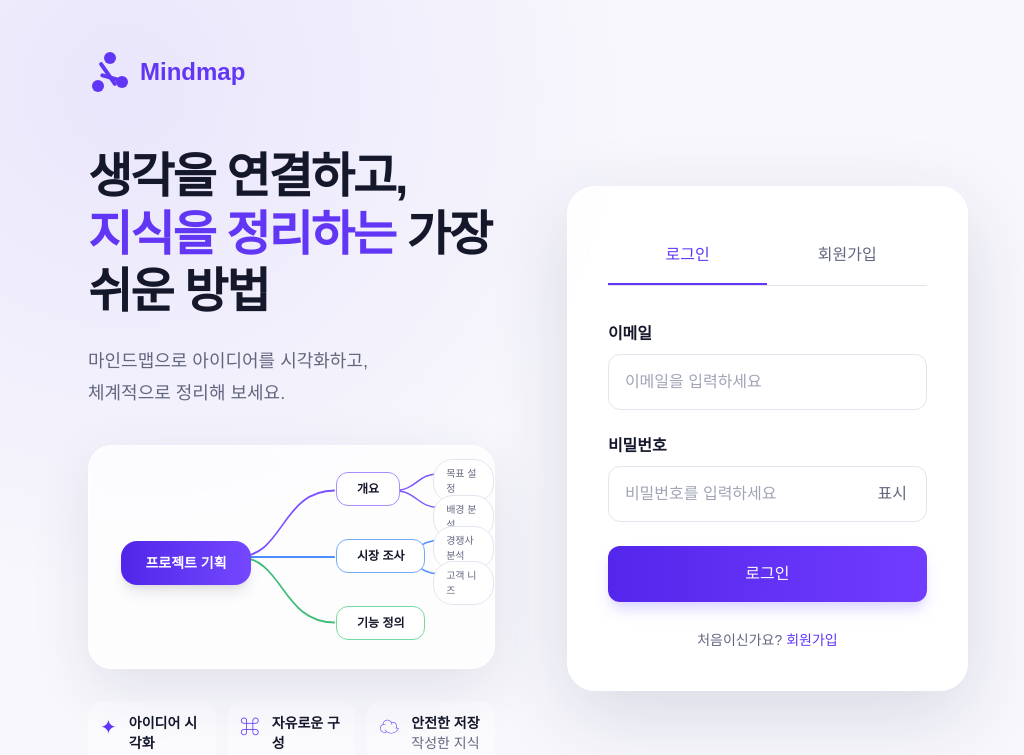
AuthScreen › shows a generic server error without clearing credentials
In the field labelled "이메일": (767, 382) 608,354 -> 927,410, type "user@example.test"
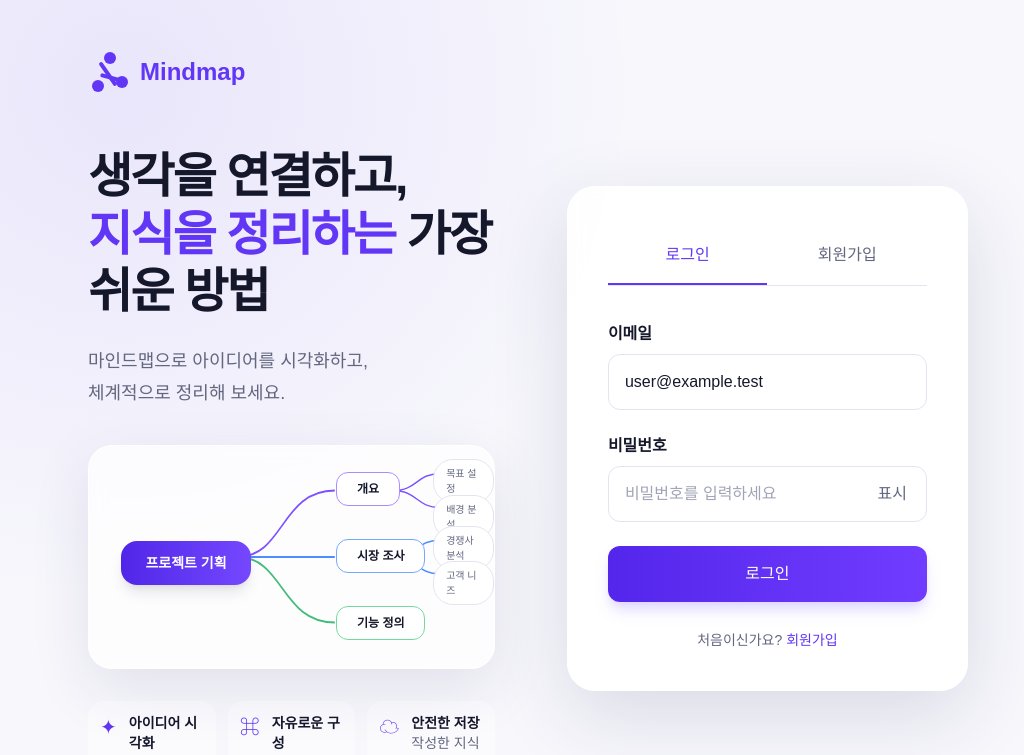
In the password field labelled "비밀번호": (767, 494) 608,466 -> 927,522, type "wrong"
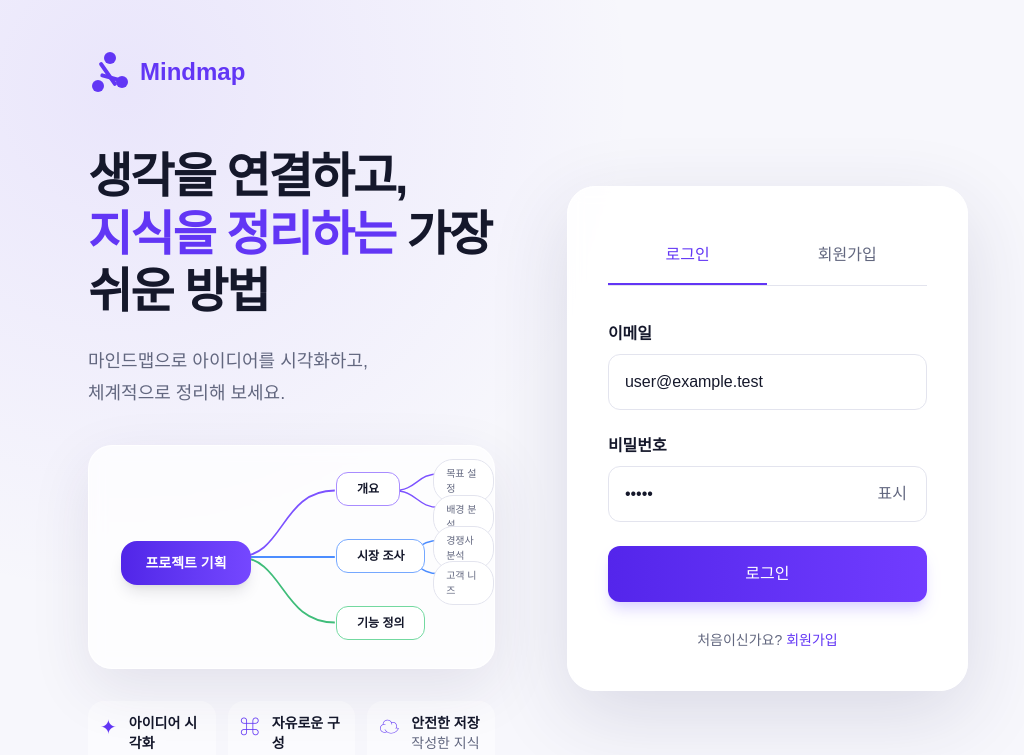
Click the button "로그인": (767, 574) 608,546 -> 927,602
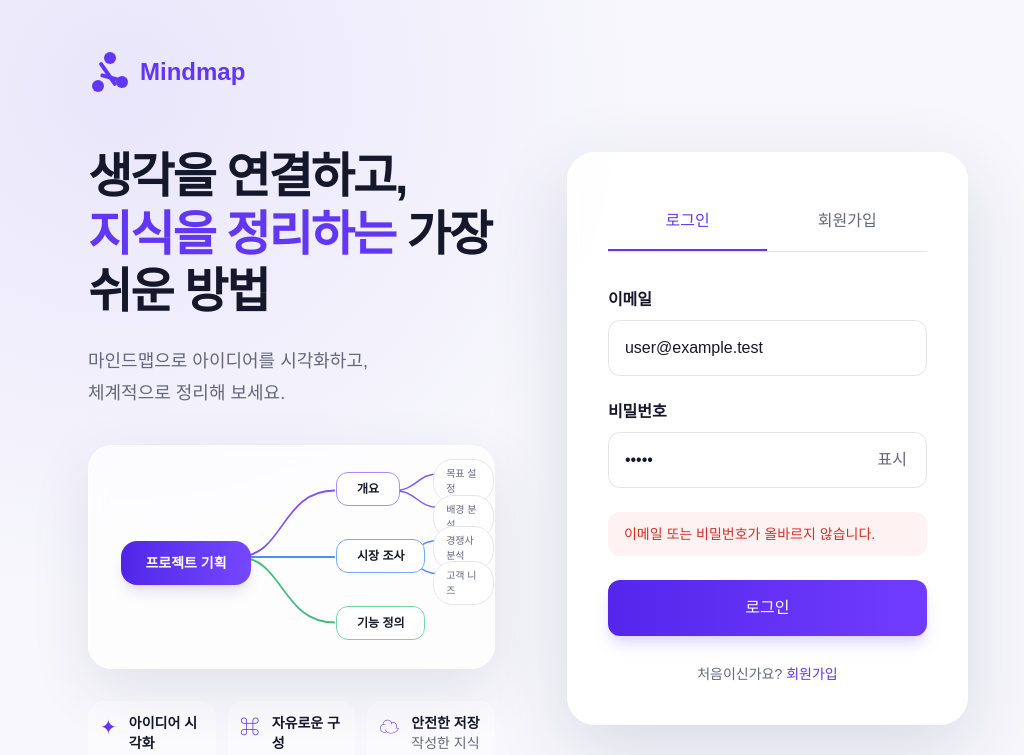
Expected: the message reads "이메일 또는 비밀번호가 올바르지 않습니다.", 624,526 -> 875,542
